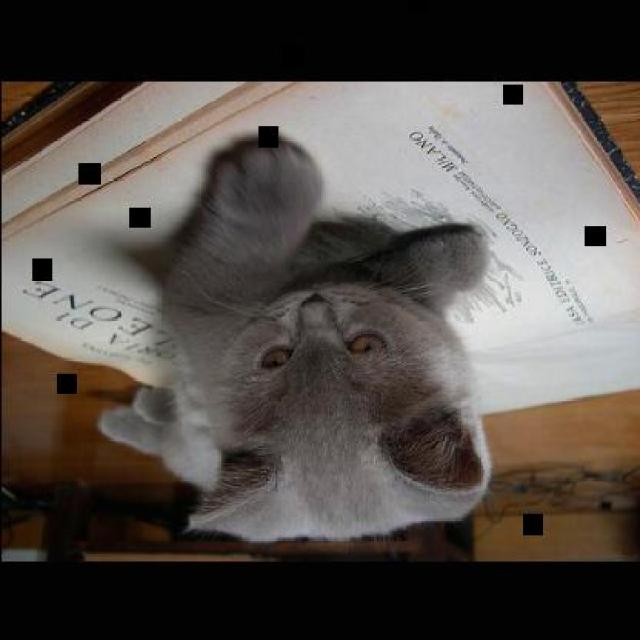unauthorized: (95, 132, 497, 545)
